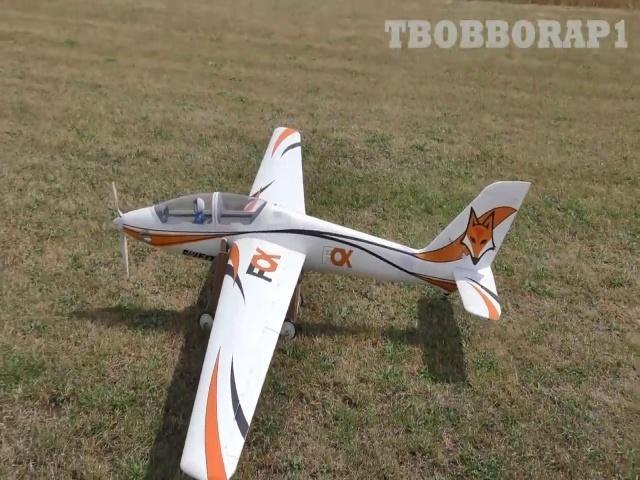Airplane: (112, 127, 532, 472)
